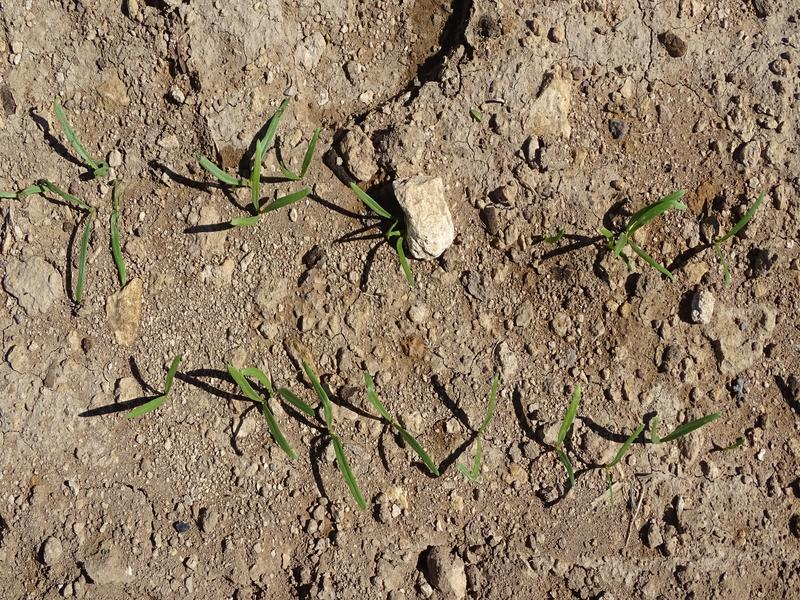Espinaca: (202, 99, 316, 222), (219, 358, 312, 462), (310, 370, 369, 513), (360, 378, 442, 475), (598, 190, 680, 281), (347, 186, 414, 285), (123, 351, 185, 423), (50, 101, 107, 177), (708, 190, 772, 246), (471, 372, 505, 475), (550, 390, 590, 476), (649, 408, 720, 449), (103, 188, 131, 283), (16, 180, 94, 212), (607, 414, 643, 474)
